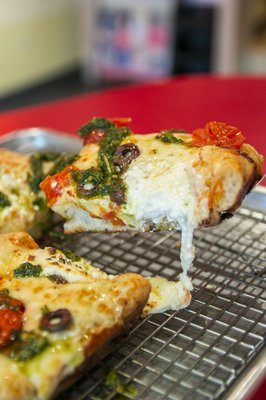curry: (1, 67, 266, 364)
sandwich: (1, 112, 259, 399), (0, 143, 193, 399), (39, 117, 263, 276)
